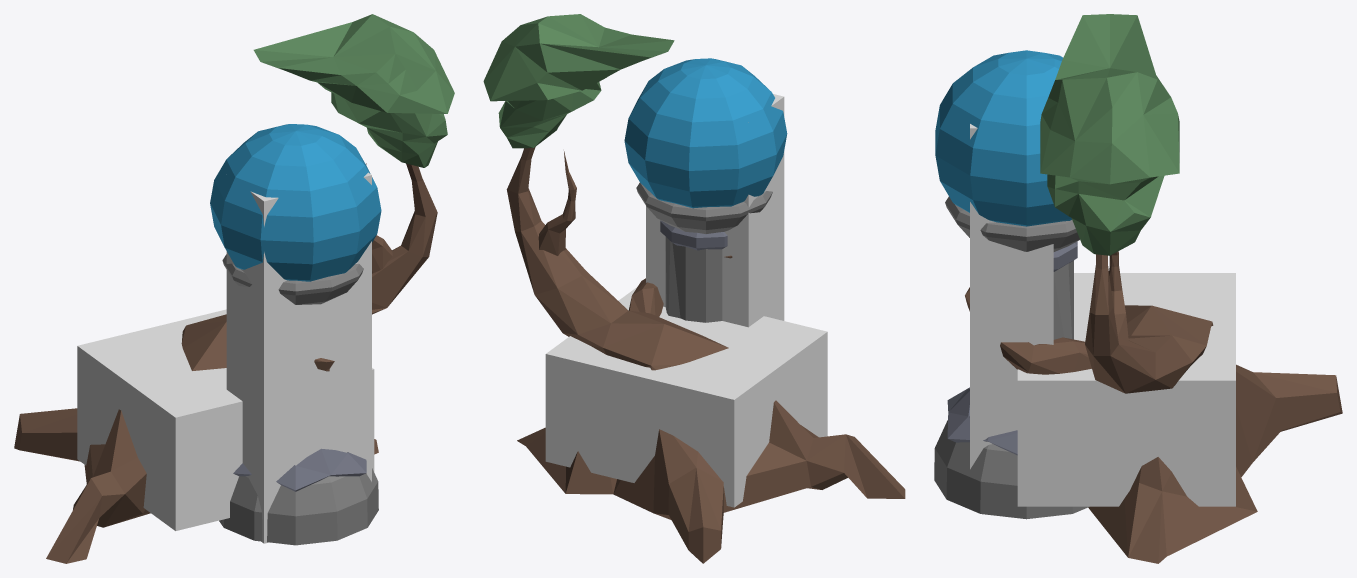
The model's file is elf_sculpture_orb.glb.
3 views of the same model, side by side, from view 1: azimuth 30°, elevation 25°; view 2: azimuth 150°, elevation 25°; view 3: azimuth 270°, elevation 25° (orthographic). The views are drawn at different scales.
Visible parts, largest first — view 1: sculpture_2, Cube.003, Cube.001; view 2: sculpture_2, Cube.001, Cube.003; view 3: sculpture_2, Cube.001, Cube.003.
Boxes of the visible parts, bbox=[...] form: sculpture_2: bbox=[14, 14, 454, 563]; Cube.003: bbox=[226, 172, 371, 543]; Cube.001: bbox=[77, 309, 374, 530]; sculpture_2: bbox=[483, 14, 905, 563]; Cube.001: bbox=[545, 287, 827, 507]; Cube.003: bbox=[646, 94, 784, 327]; sculpture_2: bbox=[934, 14, 1342, 563]; Cube.001: bbox=[1017, 273, 1235, 506]; Cube.003: bbox=[970, 124, 1053, 469].
Size of the model in its own units: 2.12 by 2.13 by 1.62.
1 material, 1 textured.
